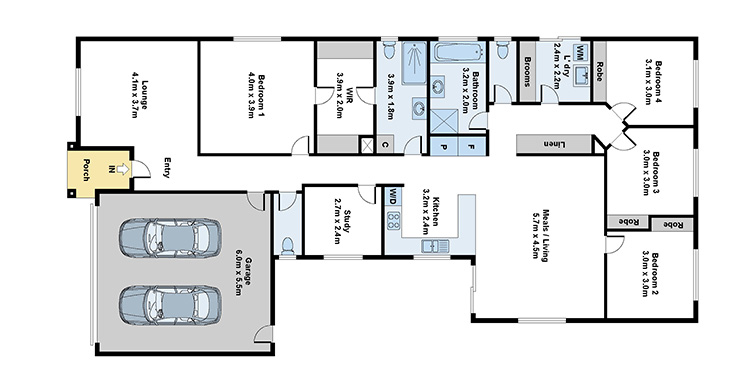door: (244, 195, 268, 214), (460, 112, 484, 131), (400, 131, 424, 150), (354, 189, 378, 208), (288, 130, 312, 149), (245, 325, 269, 344), (135, 162, 159, 181), (611, 233, 635, 252), (537, 81, 561, 100), (617, 136, 641, 155), (616, 98, 640, 117), (353, 84, 372, 105), (277, 195, 296, 213), (320, 84, 336, 105), (493, 82, 509, 101)
room: (468, 150, 609, 327), (599, 121, 701, 326), (72, 33, 203, 159), (196, 36, 319, 156), (589, 32, 701, 129), (308, 34, 379, 157), (380, 179, 480, 263), (299, 182, 387, 268), (370, 33, 430, 158), (423, 32, 490, 139), (513, 32, 597, 106), (268, 188, 307, 263), (484, 33, 521, 110)
